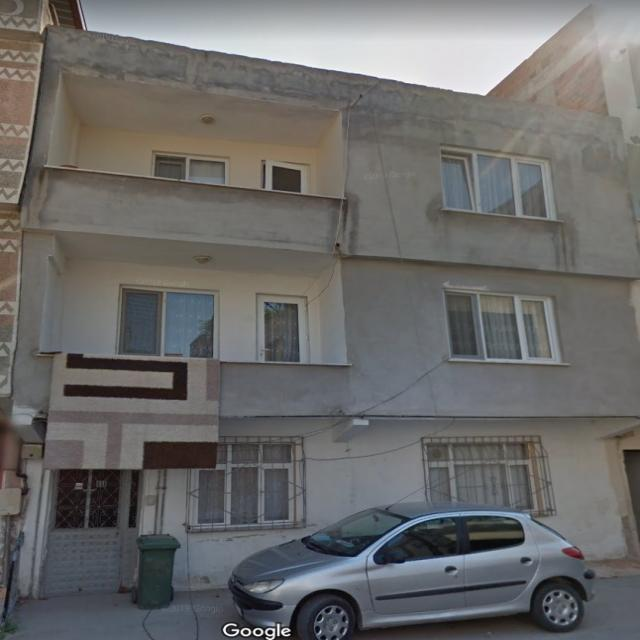Building: (13, 22, 640, 595)
